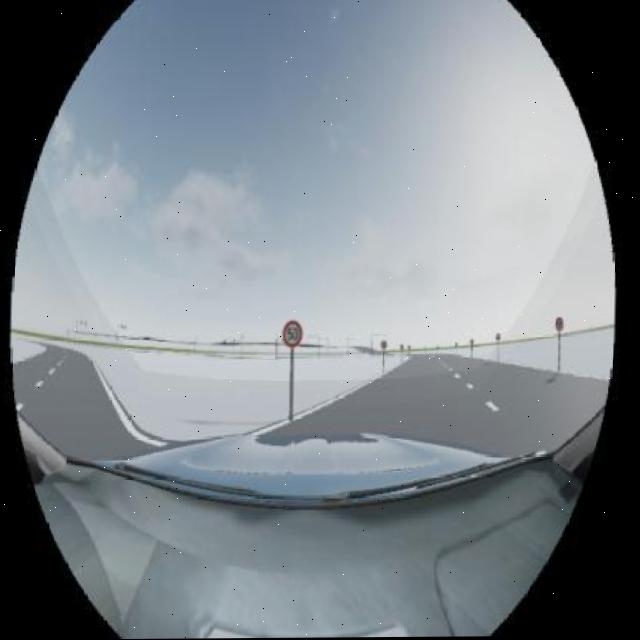Speed limit 50: (281, 317, 307, 350)
